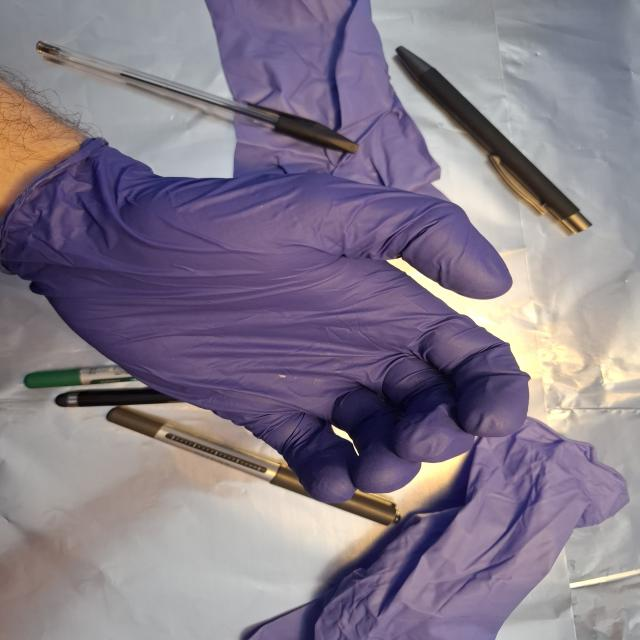glove_on: (7, 138, 539, 508)
